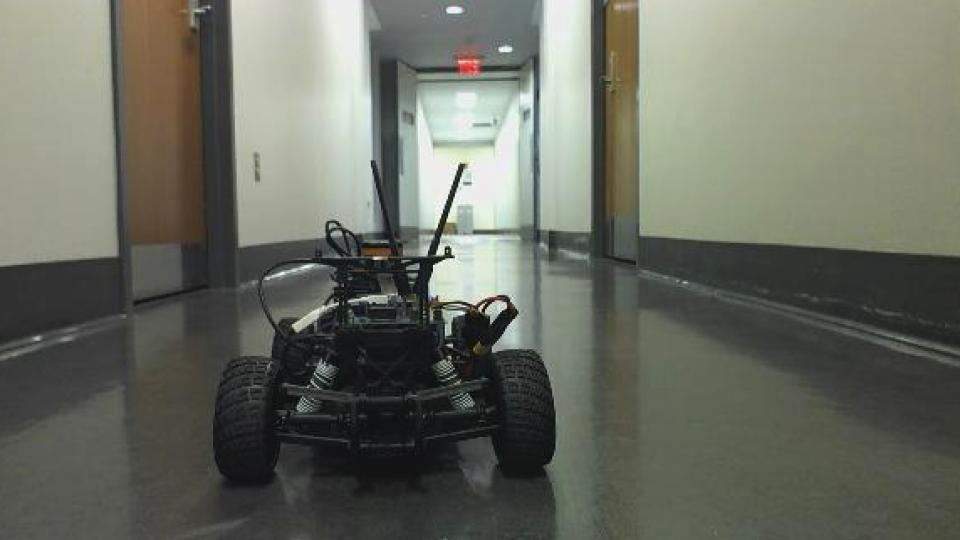car: (206, 158, 564, 485)
